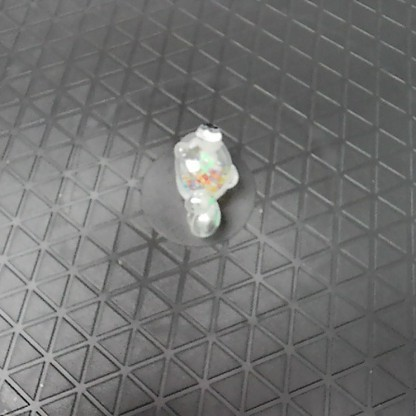whitefish: (167, 116, 239, 239)
